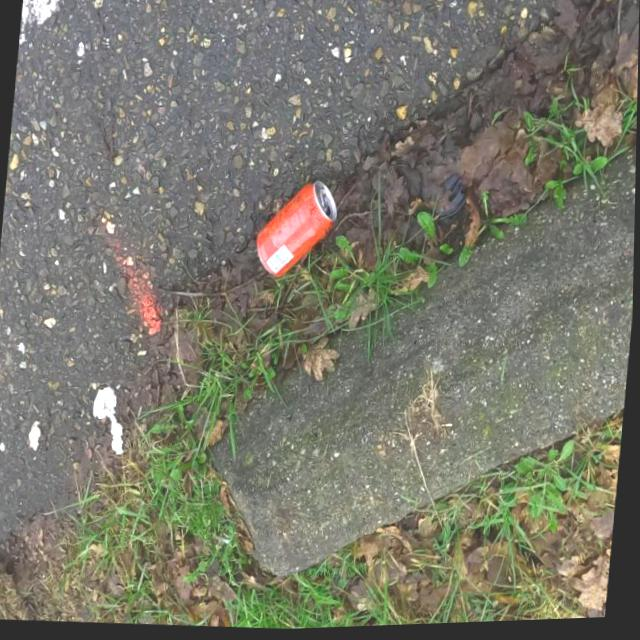Can-Metal: (251, 173, 341, 284)
Paper: (88, 382, 131, 460), (17, 0, 60, 47)
